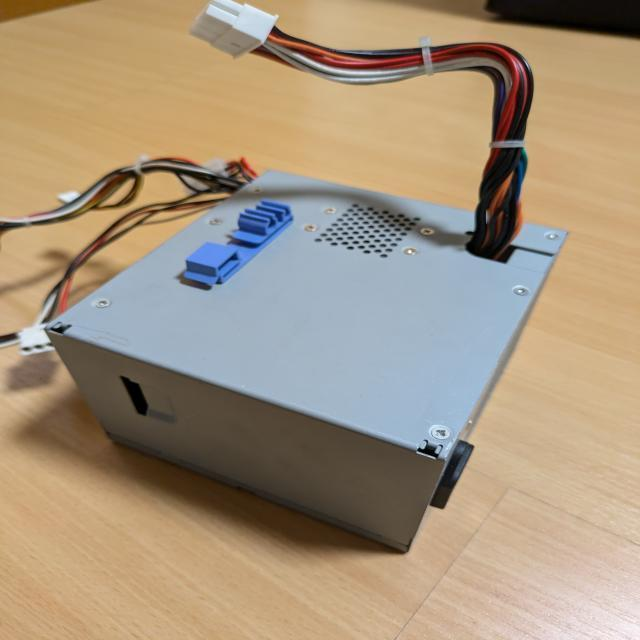PSU: (43, 167, 570, 554)
